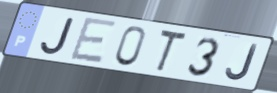0: (114, 25, 148, 68)
3: (186, 36, 222, 78)
E: (67, 15, 119, 65)
J: (38, 16, 78, 57), (223, 43, 260, 83)
T: (155, 27, 189, 75)
